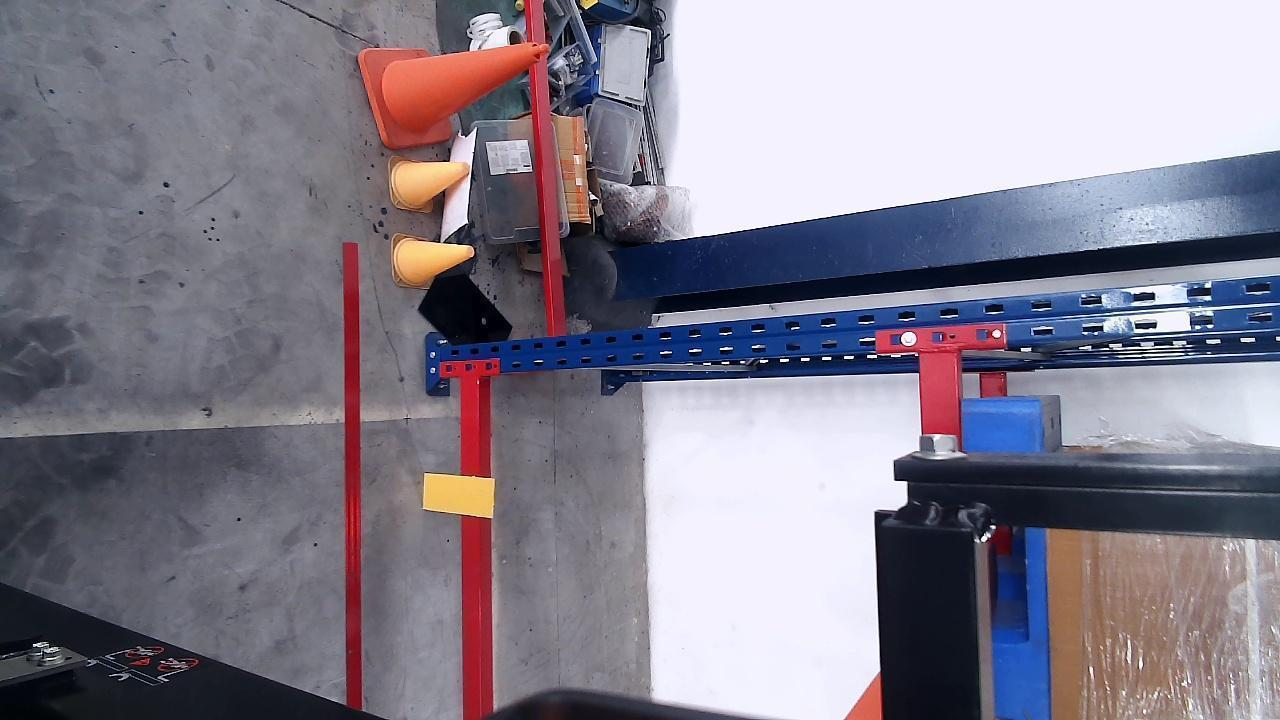red_line: (344, 241, 366, 711)
